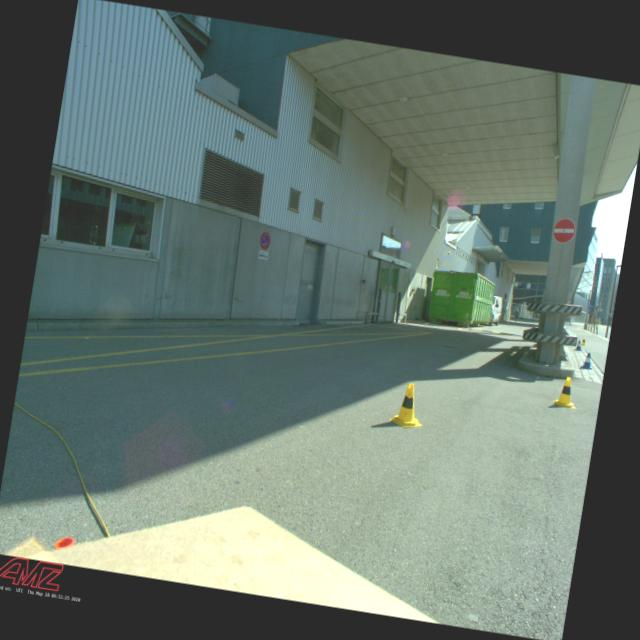blue_cone: (580, 352, 594, 370), (574, 340, 583, 352)
yellow_cone: (388, 382, 428, 431), (552, 376, 580, 408), (580, 336, 588, 346)
